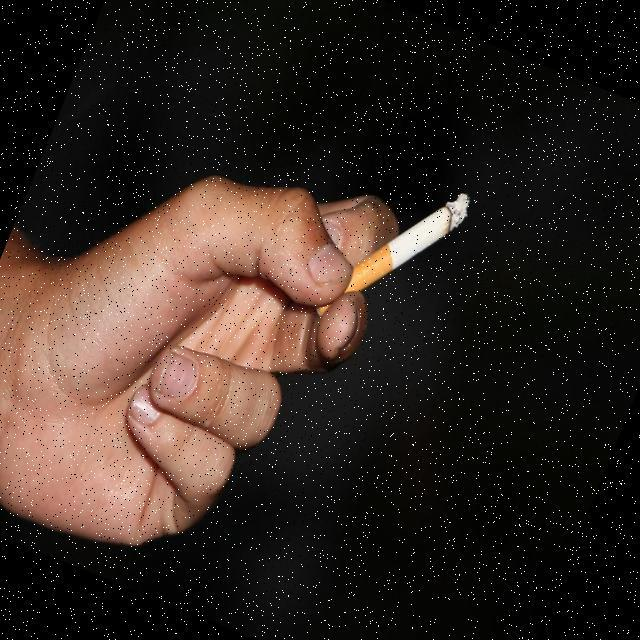cigarette: (341, 158, 480, 321)
